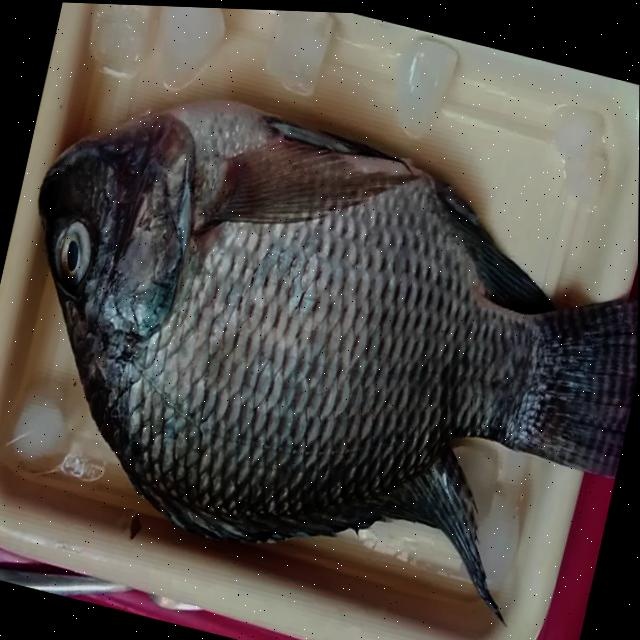Fresh: (65, 74, 640, 631), (35, 214, 107, 307)
